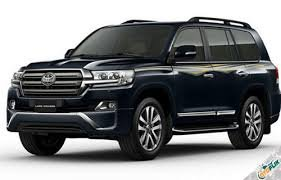mobil: (5, 17, 281, 162)
